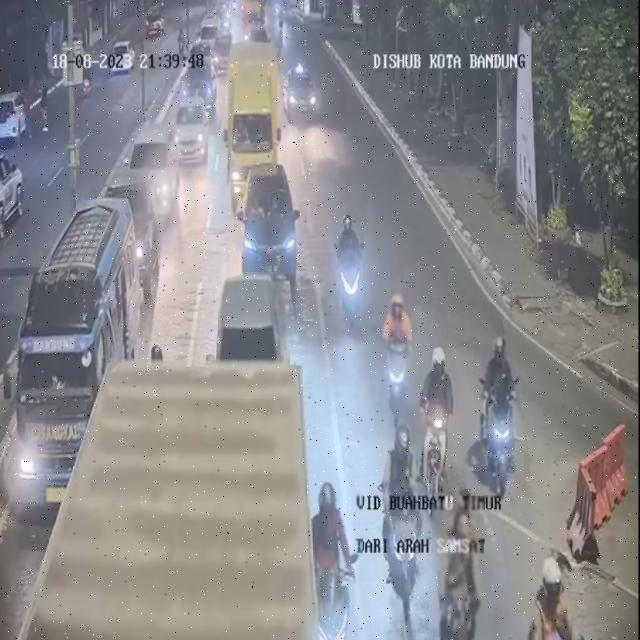cars: (17, 199, 132, 513), (218, 272, 284, 399), (108, 165, 167, 300), (242, 160, 300, 277), (134, 122, 183, 226), (173, 97, 208, 169), (287, 64, 317, 122), (195, 56, 217, 120)
motorcycle: (313, 476, 363, 634), (475, 332, 521, 498), (432, 496, 484, 637), (420, 340, 457, 503), (376, 283, 412, 423), (525, 555, 583, 638), (334, 203, 370, 321)
truck: (10, 347, 336, 637), (229, 44, 283, 204)
